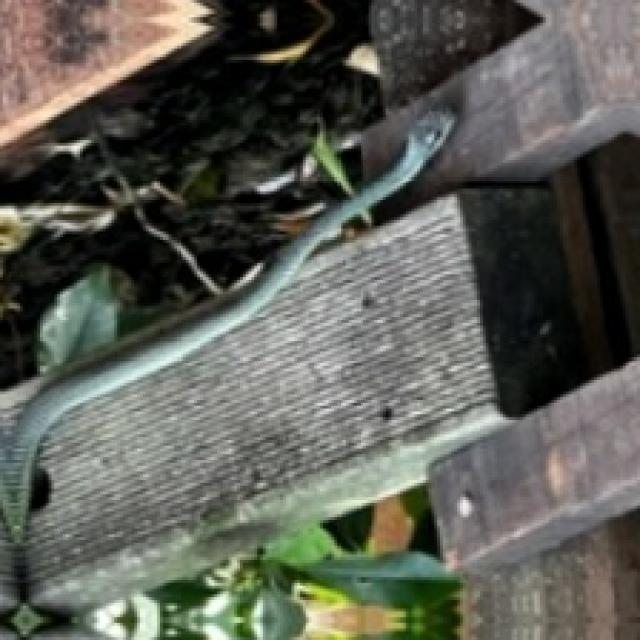paradise tree snake: (6, 0, 637, 637)
